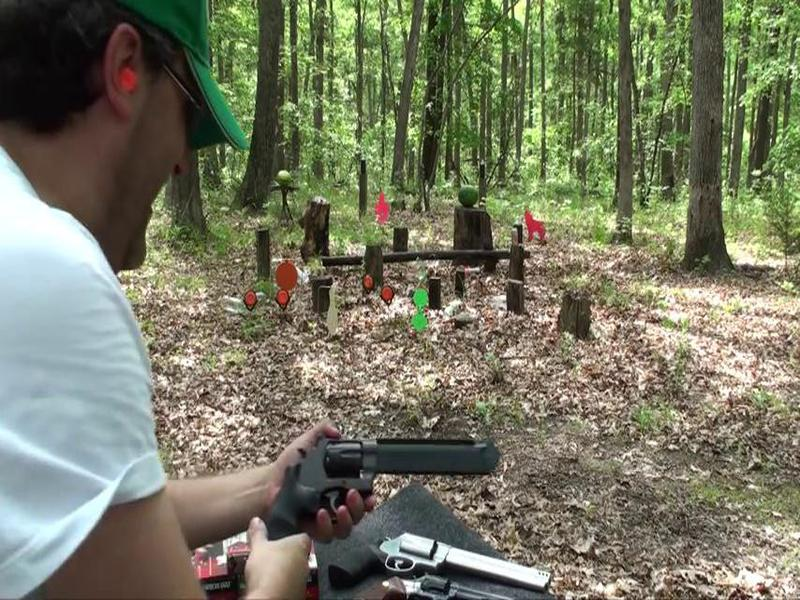Revolver: (249, 424, 516, 578)
